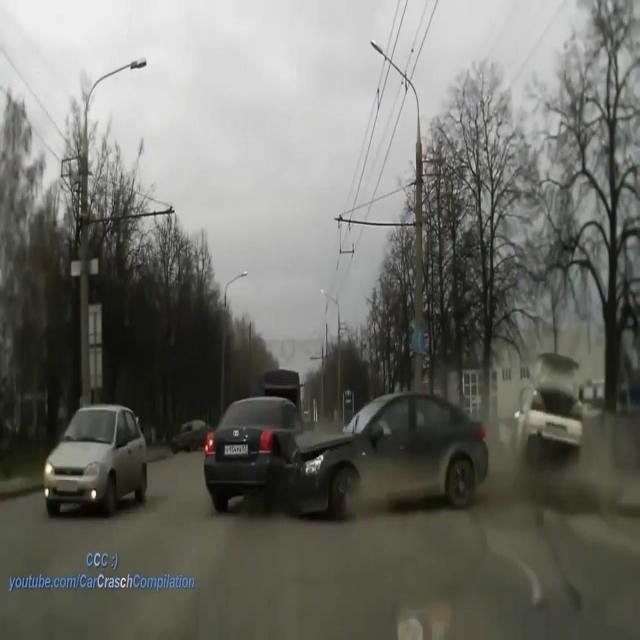accident: (213, 382, 483, 532)
